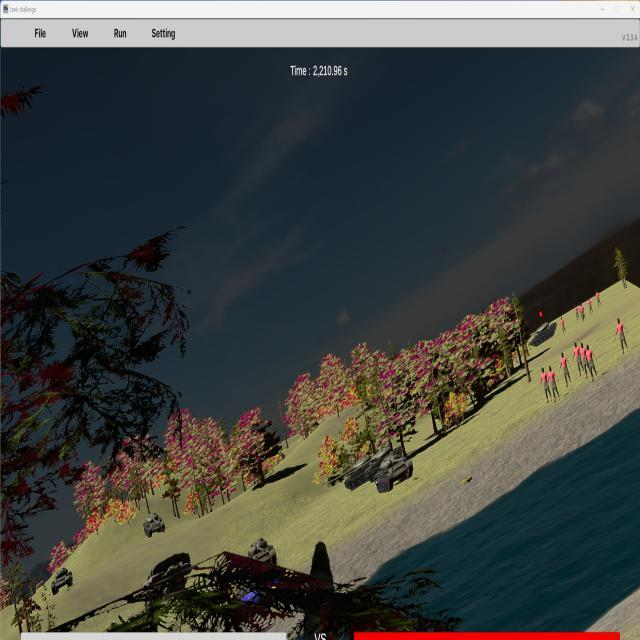Human: (583, 344, 600, 383), (615, 317, 628, 355)
Tank: (375, 456, 413, 493), (247, 536, 277, 572), (528, 321, 557, 346), (51, 565, 73, 596), (143, 512, 166, 539)
